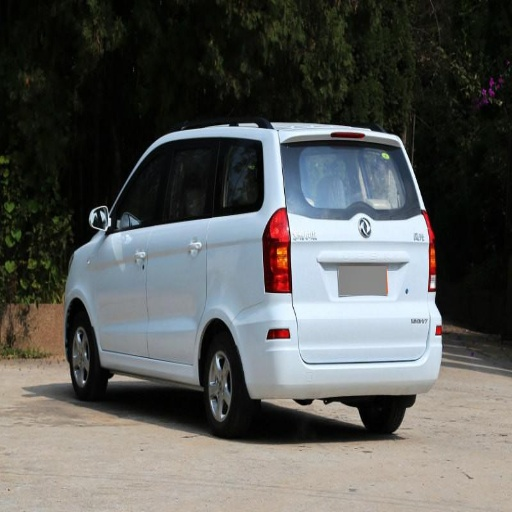back_bumper: (246, 331, 439, 398)
back_glass: (287, 139, 413, 217)
back_left_door: (150, 138, 245, 363)
trunk: (220, 215, 434, 363)
